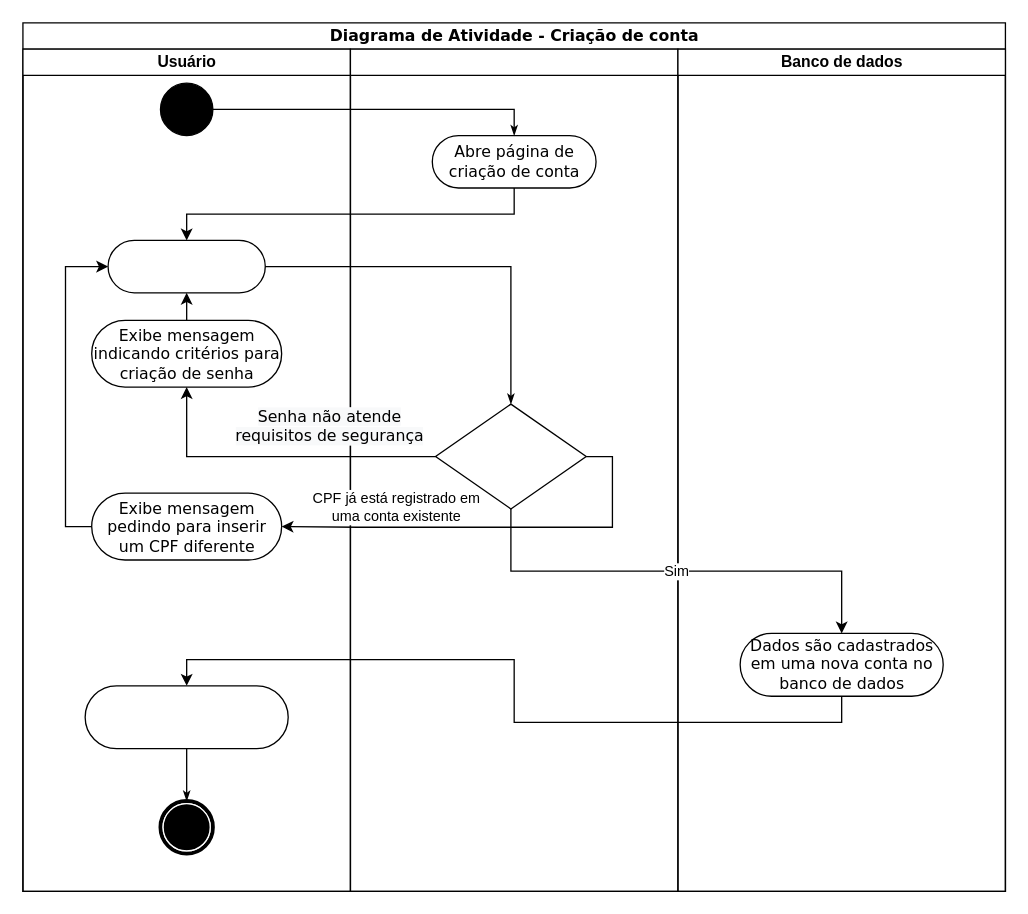
Image size: 1028x914. Some labels were removed from this diagram. The shapes that lost their labels are listed below. From the top down, each one's box as (x1, y1, x2, y2) in pixels, then its label:
(107, 239, 265, 293): Usuário fornece dados ao servidor
(434, 403, 586, 509): Os dados são válidos?
(349, 48, 678, 891): Servidor
(84, 684, 288, 749): Mensagem de sucesso é exibida para o usuário
